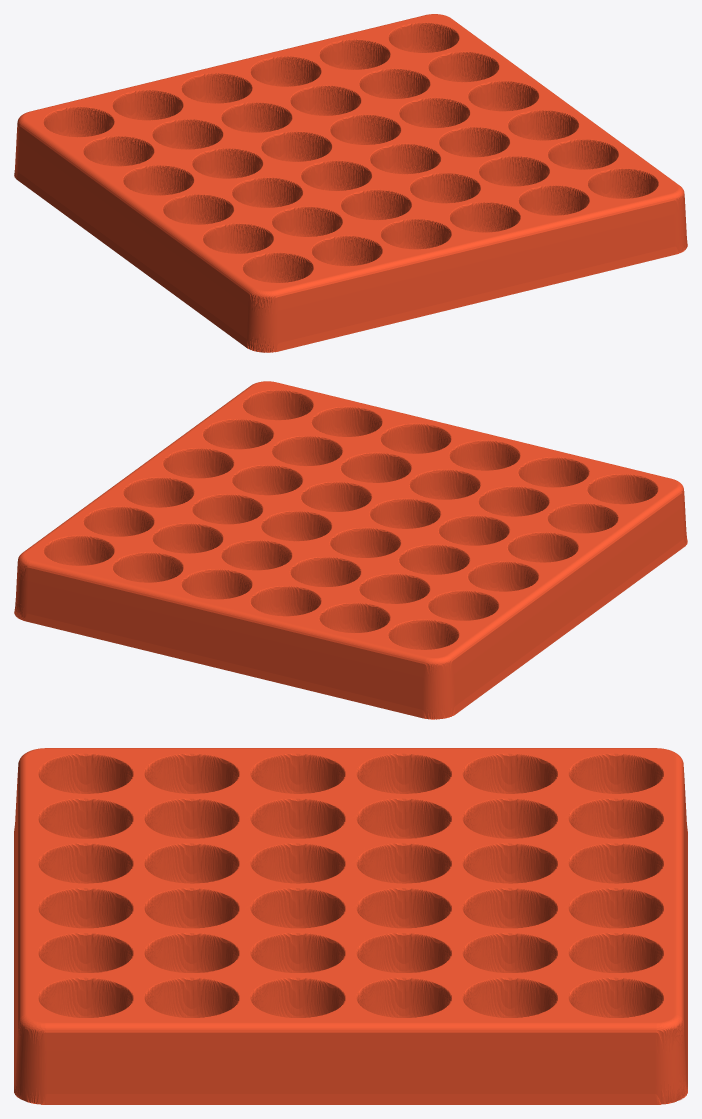
File: mold.glb
The picture shows the model from 3 angles, top to bottom: view 1: azimuth 30°, elevation 25°; view 2: azimuth 150°, elevation 25°; view 3: azimuth 270°, elevation 25°; orthographic projection. The views are drawn at different scales.
Parts seen in each view (by area): view 1: geometry_0; view 2: geometry_0; view 3: geometry_0.
Boxes of the visible parts, box(x1,y1,x2,y2) form: geometry_0: box(14, 14, 687, 352); geometry_0: box(14, 381, 687, 719); geometry_0: box(14, 748, 687, 1104).
Size of the model in its own units: 0.1877 by 0.0236 by 0.1877.
